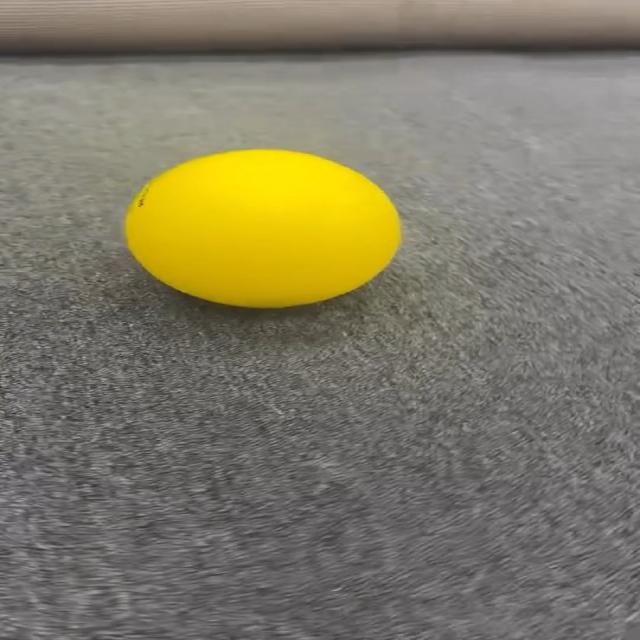Fuels: (127, 150, 397, 305)
